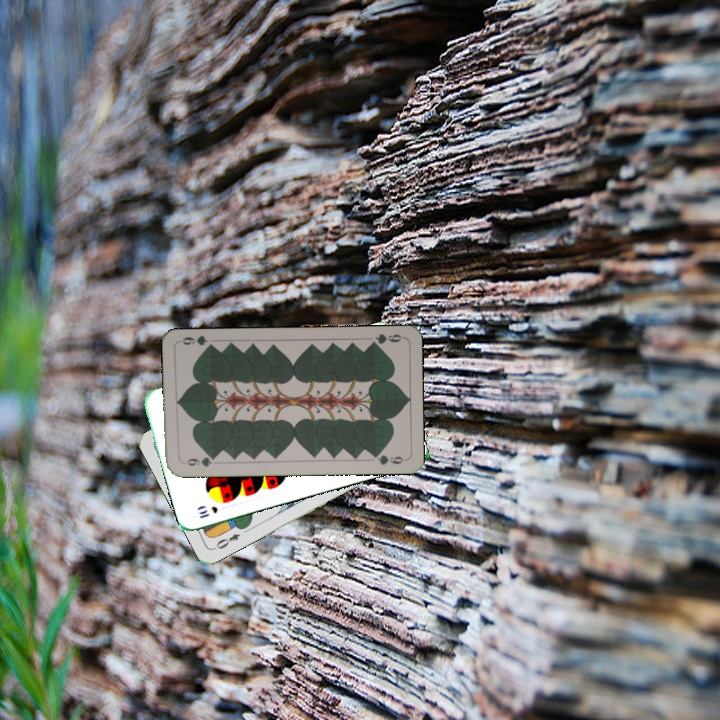EO: (212, 529, 243, 552)
G9: (365, 330, 406, 349), (179, 452, 219, 469)
S10: (195, 502, 220, 521)
